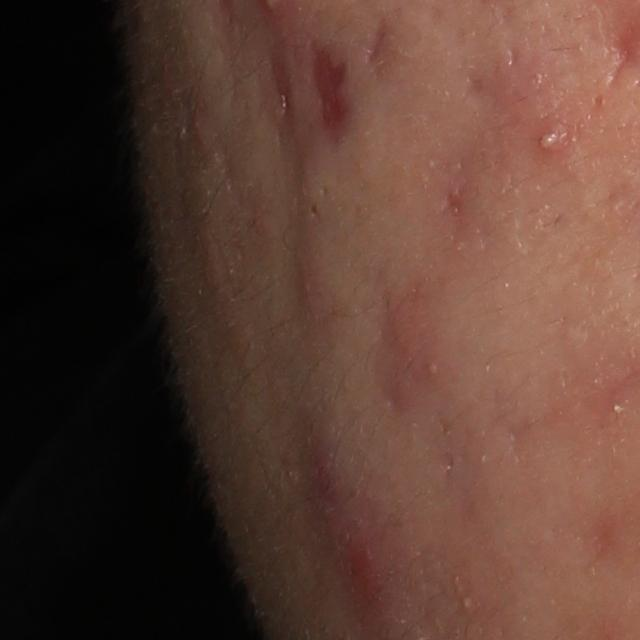atrophic_scar: (310, 41, 359, 147), (435, 168, 480, 227), (260, 56, 295, 130), (361, 19, 392, 67)
pustule: (536, 126, 570, 152)
